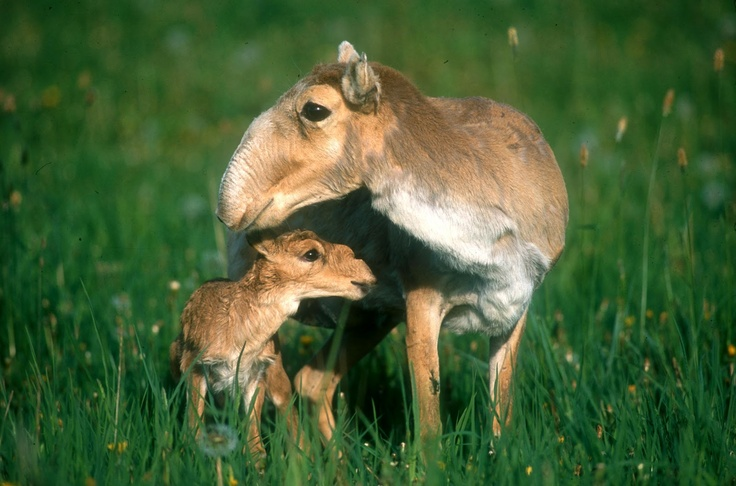saiga: (212, 37, 571, 473), (179, 222, 373, 452)
